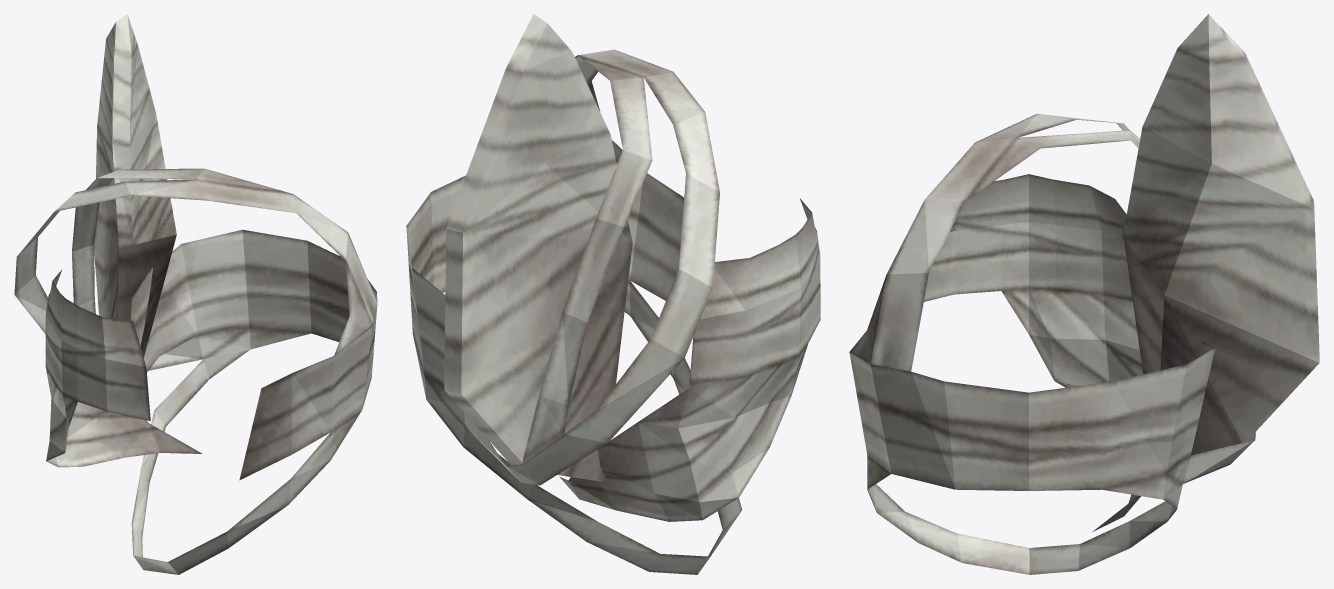
File: Bat_mummyHead.obj
3 renders of one model, left to right at view 1: azimuth 30°, elevation 25°; view 2: azimuth 150°, elevation 25°; view 3: azimuth 270°, elevation 25°, orthographic. The views are drawn at different scales.
Visible parts, largest first — view 1: Bat_mummyHead_tri; view 2: Bat_mummyHead_tri; view 3: Bat_mummyHead_tri.
Part boxes in pixels (x1,y1,x2,y2): Bat_mummyHead_tri: (14, 14, 377, 574); Bat_mummyHead_tri: (406, 14, 820, 574); Bat_mummyHead_tri: (849, 14, 1319, 574).
Bounding box in the file's own units: 0.2623 × 0.4137 × 0.2967.
Materials: 1 (1 with a texture image).
